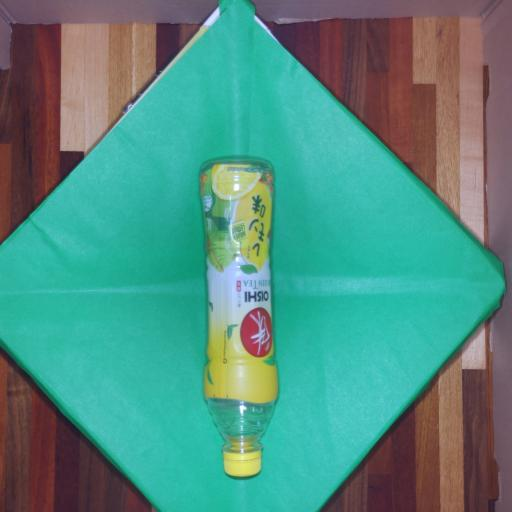bottle: (200, 160, 277, 476)
